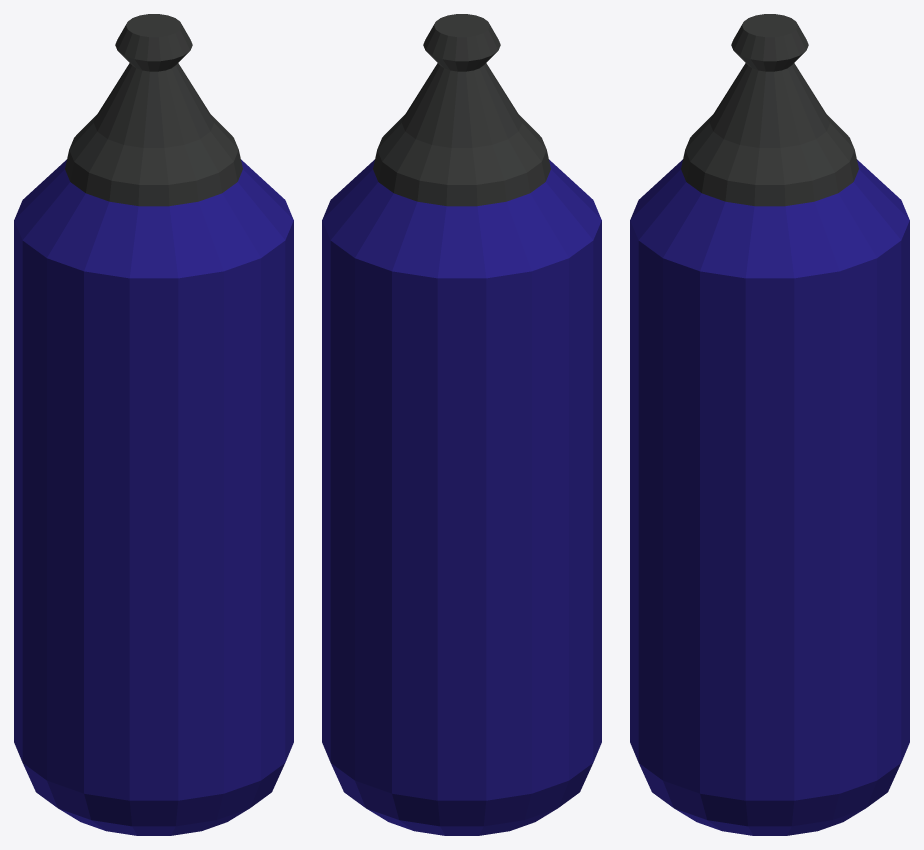
The model's file is indakarmin.fbx.
3 views of the same model, side by side, from view 1: azimuth 30°, elevation 25°; view 2: azimuth 150°, elevation 25°; view 3: azimuth 270°, elevation 25° (orthographic).
Parts seen in each view (by area): view 1: Cylinder.001; view 2: Cylinder.001; view 3: Cylinder.001.
Part boxes in pixels (x1,y1,x2,y2): Cylinder.001: [14, 14, 293, 835]; Cylinder.001: [322, 14, 601, 835]; Cylinder.001: [630, 14, 909, 835].
Size of the model in its own units: 13.66 by 42.17 by 13.87.
